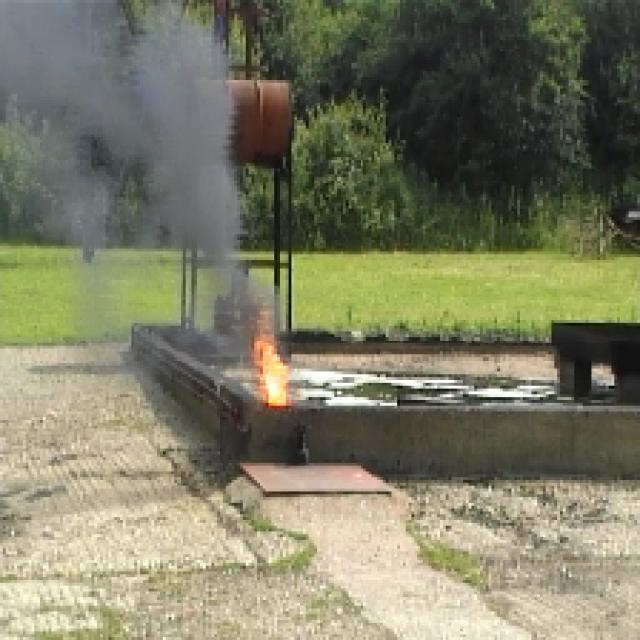Fire: (255, 338, 292, 416)
Smoke: (2, 0, 246, 218), (187, 226, 283, 320)
